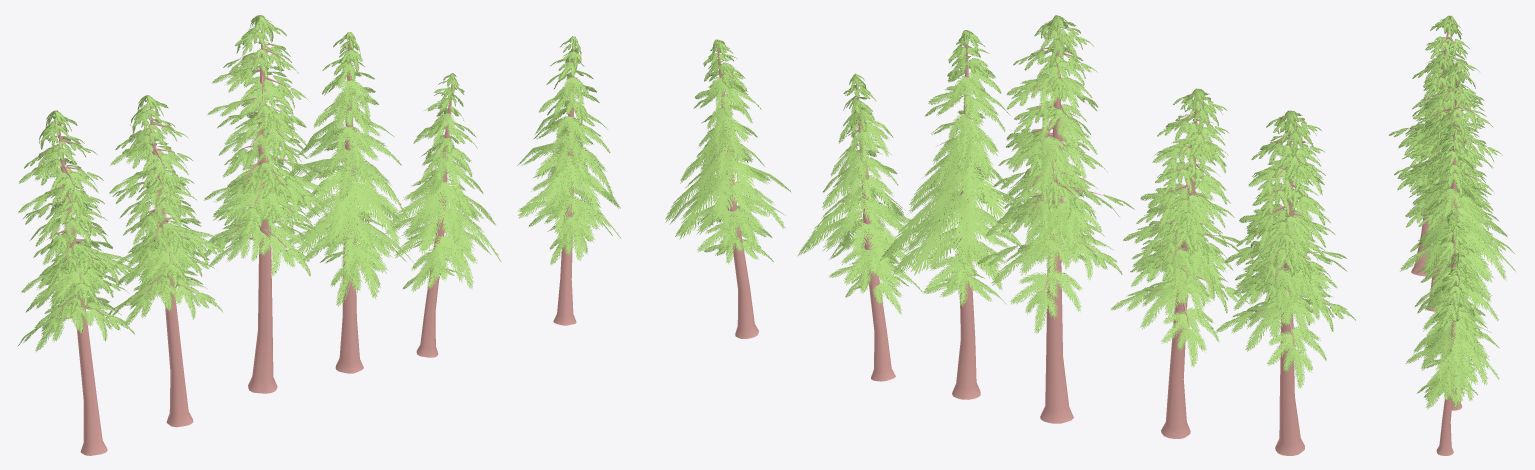
Rendered from trees.glb.
3 renders of one model, left to right at view 1: azimuth 30°, elevation 25°; view 2: azimuth 150°, elevation 25°; view 3: azimuth 270°, elevation 25°, orthographic. The views are drawn at different scales.
Parts seen in each view (by area): view 1: Object_6, Object_4, Object_5; view 2: Object_6, Object_4, Object_5; view 3: Object_6, Object_4, Object_5.
Boxes of the visible parts, x1=… form: Object_6: x1=18, y1=32, x2=620, y2=455; Object_4: x1=106, y1=73, x2=500, y2=427; Object_5: x1=203, y1=15, x2=333, y2=393; Object_6: x1=665, y1=30, x2=1355, y2=455; Object_4: x1=797, y1=73, x2=1248, y2=438; Object_5: x1=976, y1=15, x2=1134, y2=423; Object_6: x1=1389, y1=15, x2=1516, y2=455; Object_4: x1=1394, y1=51, x2=1498, y2=410; Object_5: x1=1408, y1=62, x2=1514, y2=340.
Bounding box in the file's own units: 41.32 × 24.39 × 10.4.
2 materials, 2 textured.
